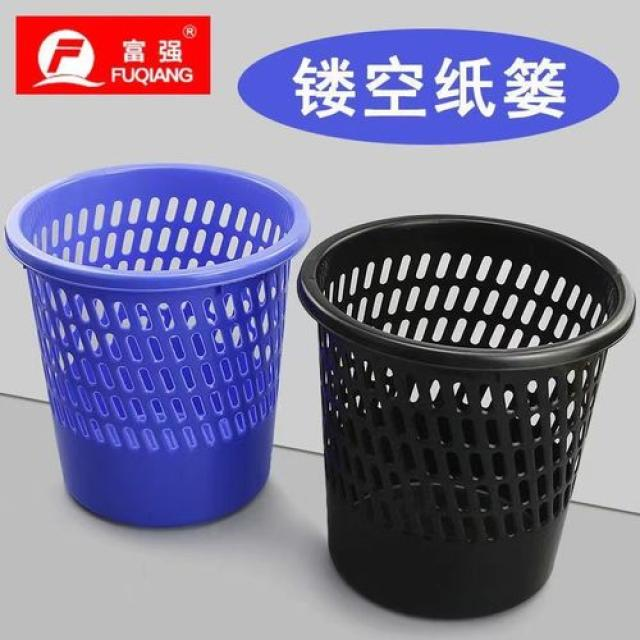dustbin: (295, 209, 639, 623), (6, 158, 312, 534)
